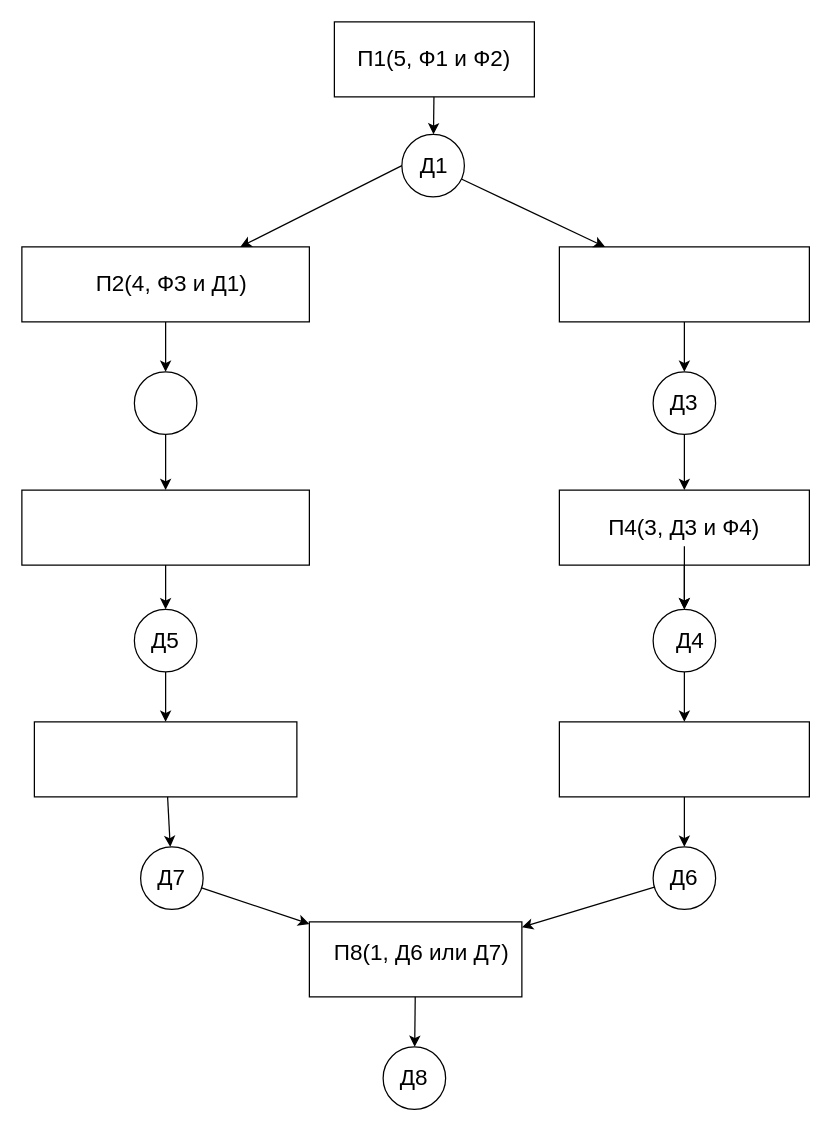
This 831x1131 diagram has some shape labels left out. The box of each missing label's shape, as (x1, y1, x2, y2) in pixels:
Д2: (133, 371, 197, 434)
П3(4, не Ф3 и Д1 ): (558, 246, 809, 322)
П5(3, Д2 и Ф5): (21, 489, 309, 565)
П6(2, Д4): (558, 721, 809, 797)
П7(2,Д5): (33, 721, 297, 797)
